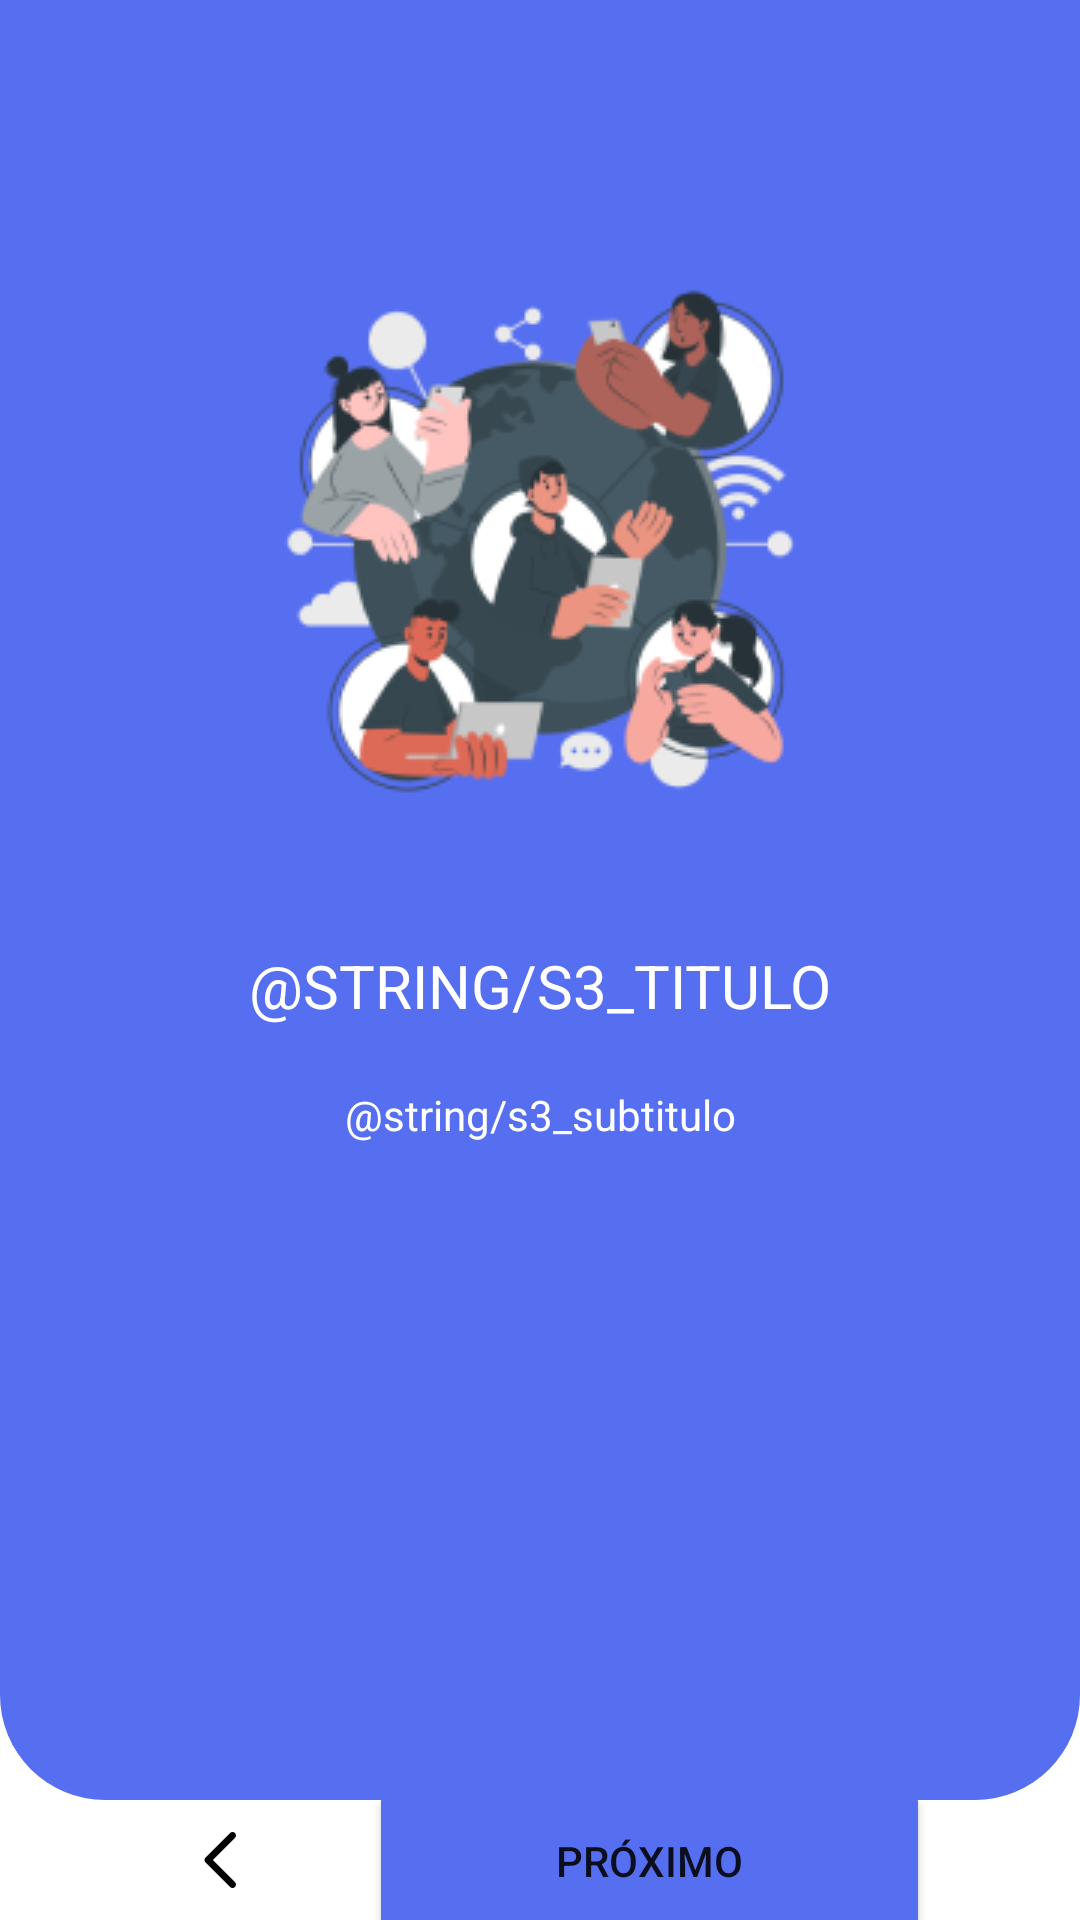

Screen size 1080x1920. Icon name, then its center in pixels as (x=x, y=y):
chevron left: (x=220, y=1860)
